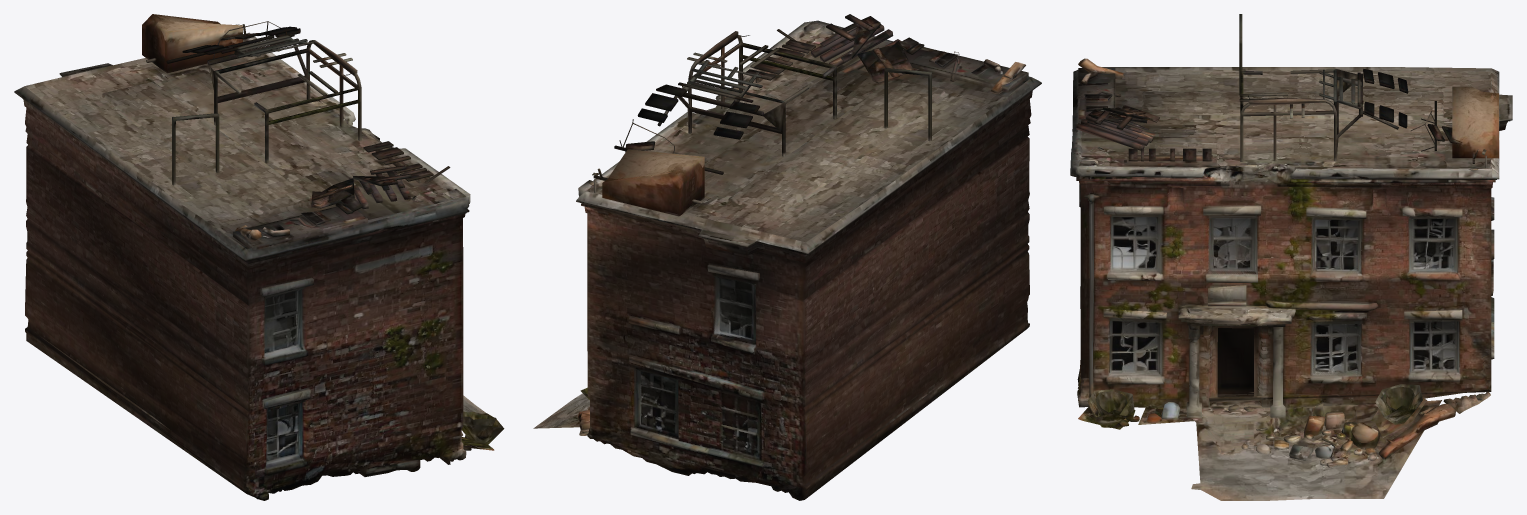
File: site-schoolhouse.glb
3 views of the same model, side by side, from view 1: azimuth 30°, elevation 25°; view 2: azimuth 150°, elevation 25°; view 3: azimuth 270°, elevation 25° (orthographic). The views are drawn at different scales.
Parts seen in each view (by area): view 1: site-schoolhouse; view 2: site-schoolhouse; view 3: site-schoolhouse.
Boxes of the visible parts, <box> form: site-schoolhouse: <box>14,14,504,500</box>; site-schoolhouse: <box>533,14,1041,500</box>; site-schoolhouse: <box>1070,14,1512,500</box>.
Size of the model in its own units: 0.8032 by 0.8599 by 0.9995.
Materials: 1 (1 with a texture image).
